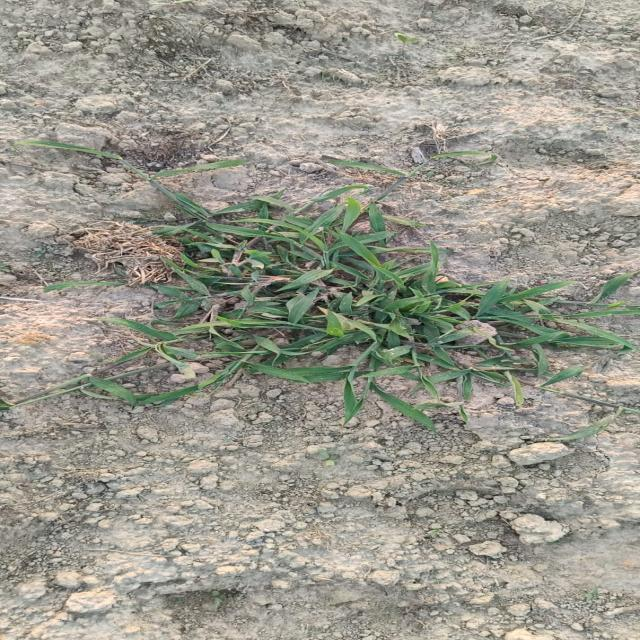plant: (45, 186, 634, 429)
